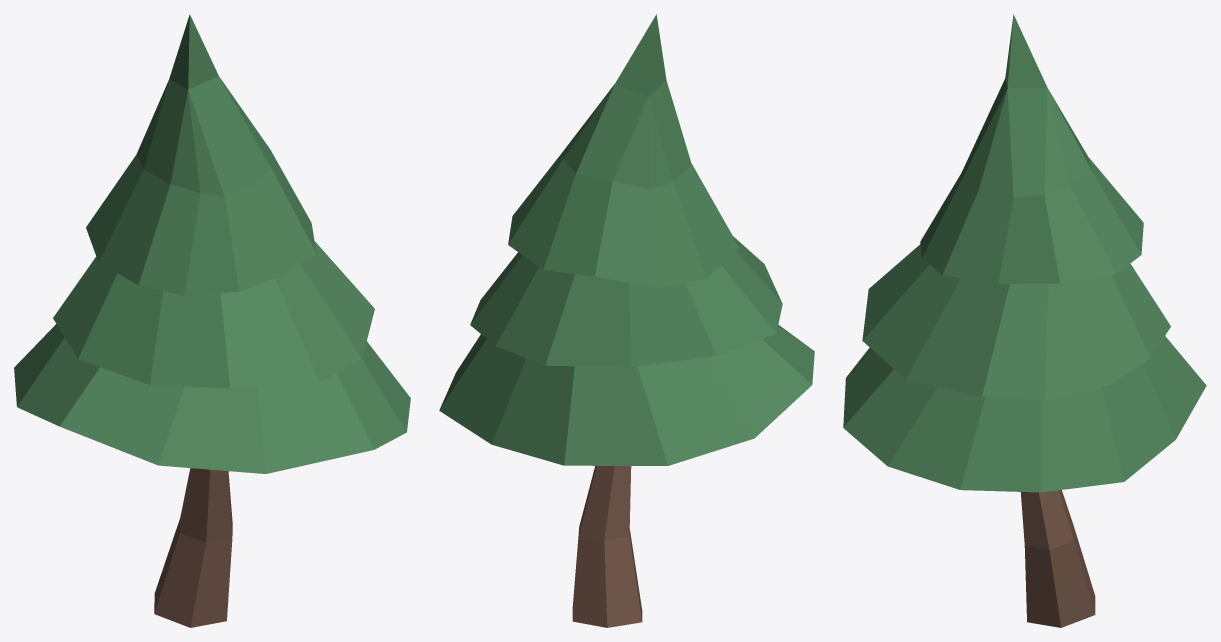
The model's file is msh_TreePine01.fbx.
3 views of the same model, side by side, from view 1: azimuth 30°, elevation 25°; view 2: azimuth 150°, elevation 25°; view 3: azimuth 270°, elevation 25° (orthographic). The views are drawn at different scales.
Parts seen in each view (by area): view 1: Cube.036, Cube.035, Cube.034, Cylinder.004; view 2: Cube.035, Cube.036, Cube.034, Cylinder.004; view 3: Cube.035, Cube.034, Cube.036, Cylinder.004.
Part boxes in pixels (box(x1,y1,x2,y2)): Cube.036: box(86, 14, 316, 295); Cube.035: box(14, 324, 410, 473); Cube.034: box(53, 241, 374, 388); Cylinder.004: box(154, 468, 232, 627); Cube.035: box(439, 325, 814, 465); Cube.036: box(508, 14, 738, 287); Cube.034: box(470, 236, 782, 367); Cylinder.004: box(572, 466, 642, 627); Cube.035: box(843, 336, 1206, 492); Cube.034: box(862, 244, 1170, 400); Cube.036: box(920, 14, 1143, 283); Cylinder.004: box(1020, 490, 1095, 627).
Size of the model in its own units: 252 by 439 by 246.
